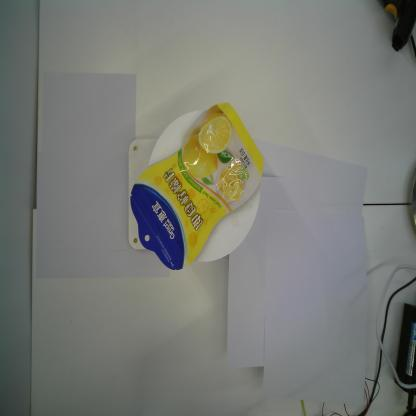Dried Fruit: (130, 102, 264, 271)
